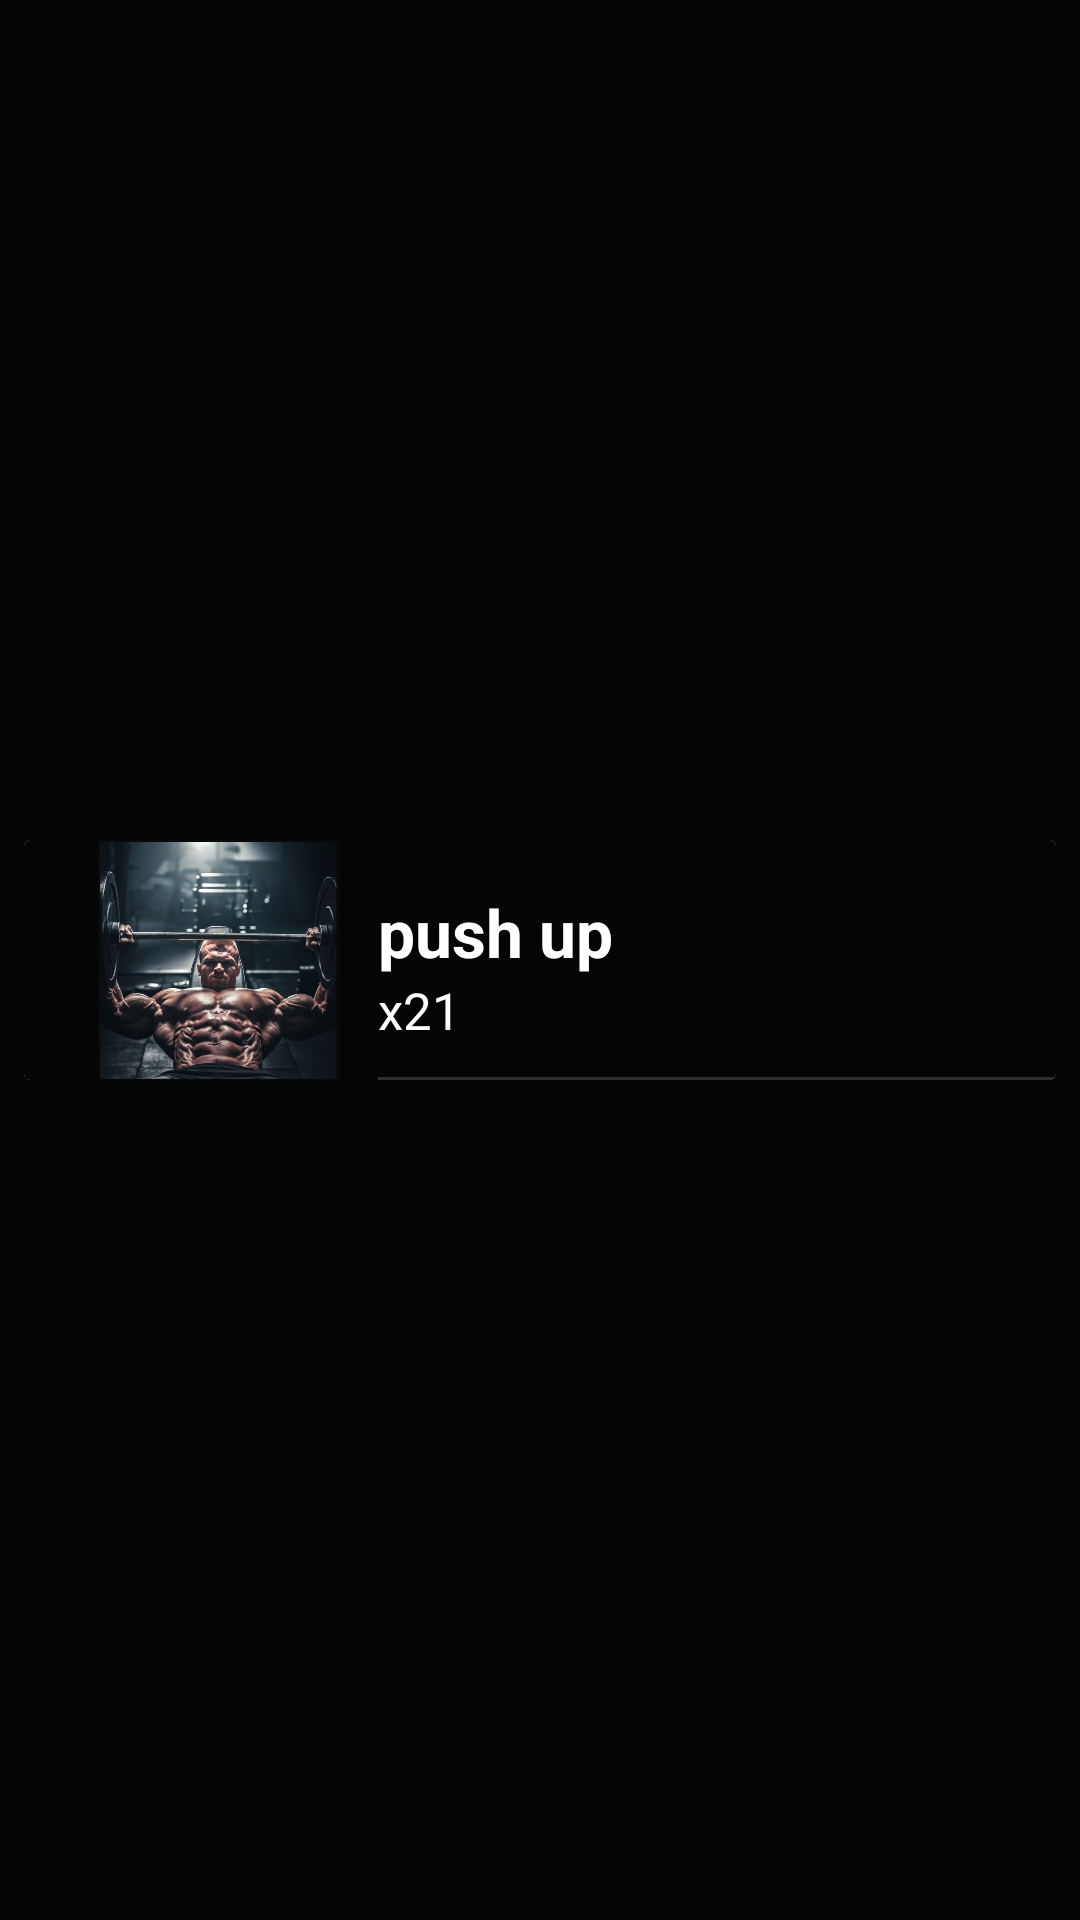

Named icons in this screenshot (1080x1920) and their centers, (x,y):
bench: (218,960)
